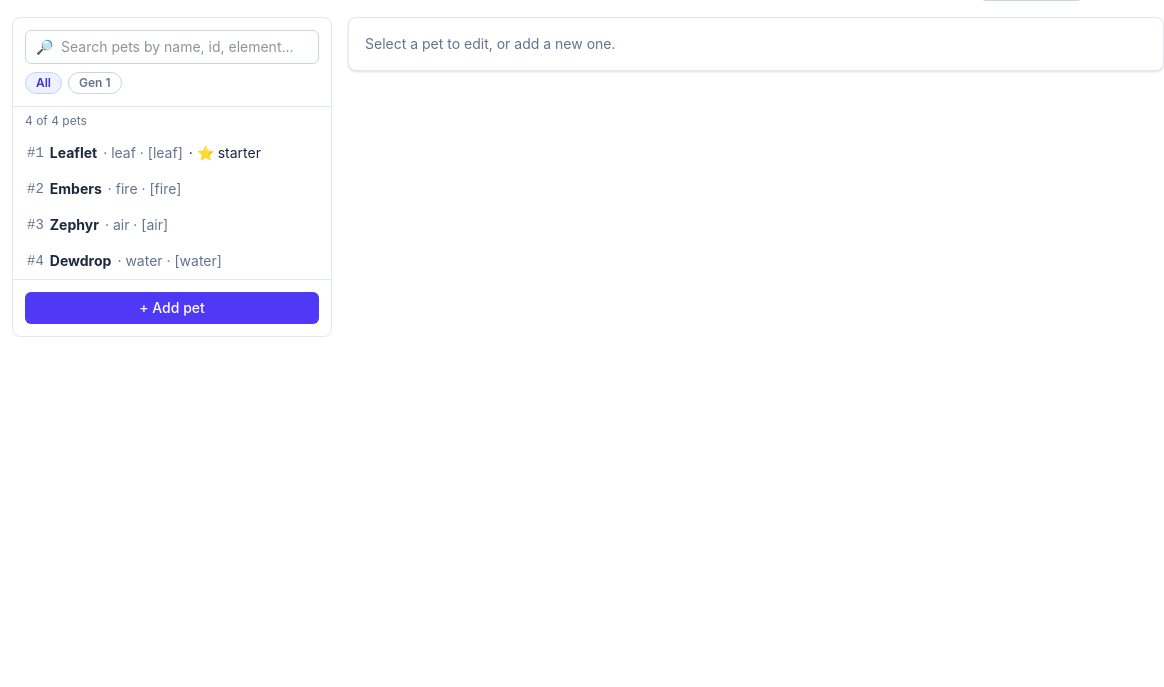
Test case: PetsTab — add / delete / filter › Delete is disabled for the sole starter
The width and height of the screenshot is (1164, 687).
expect the button "+ Add pet" is shown: met, box [25,292,319,324]
Click the button "#1 Leaflet · leaf · [leaf] · ⭐ starter" at (172, 153), box [13,135,331,171]
(page scrolled)
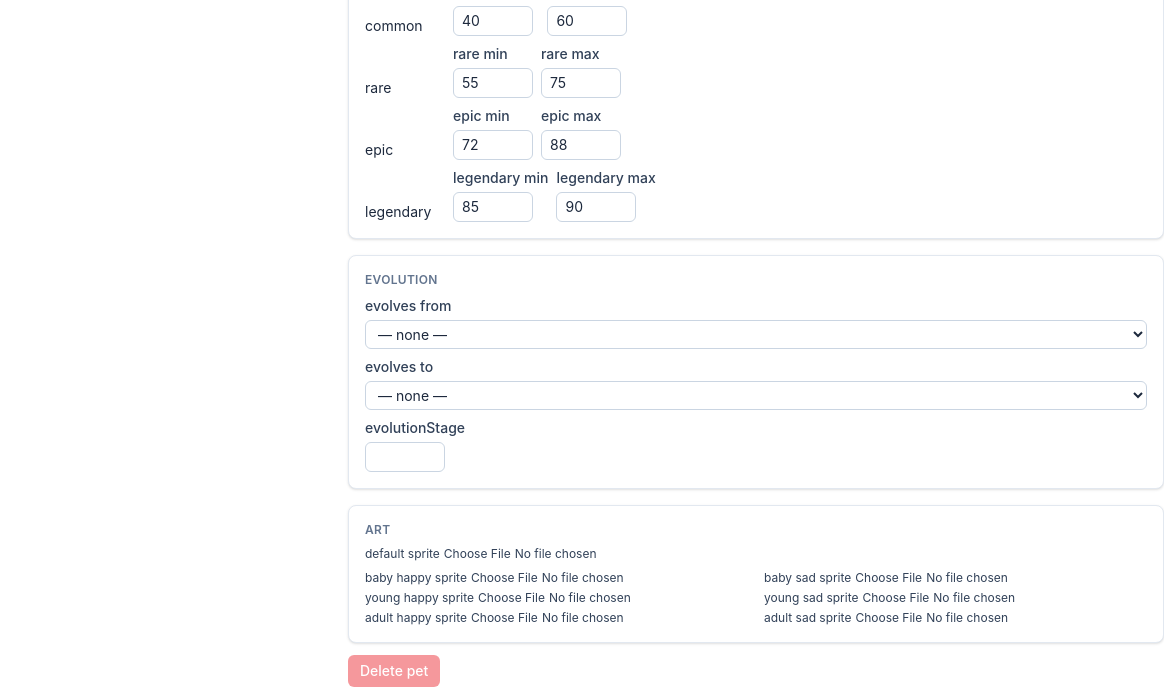
expect the button "Delete pet" is disabled: met, box [348,655,440,686]
